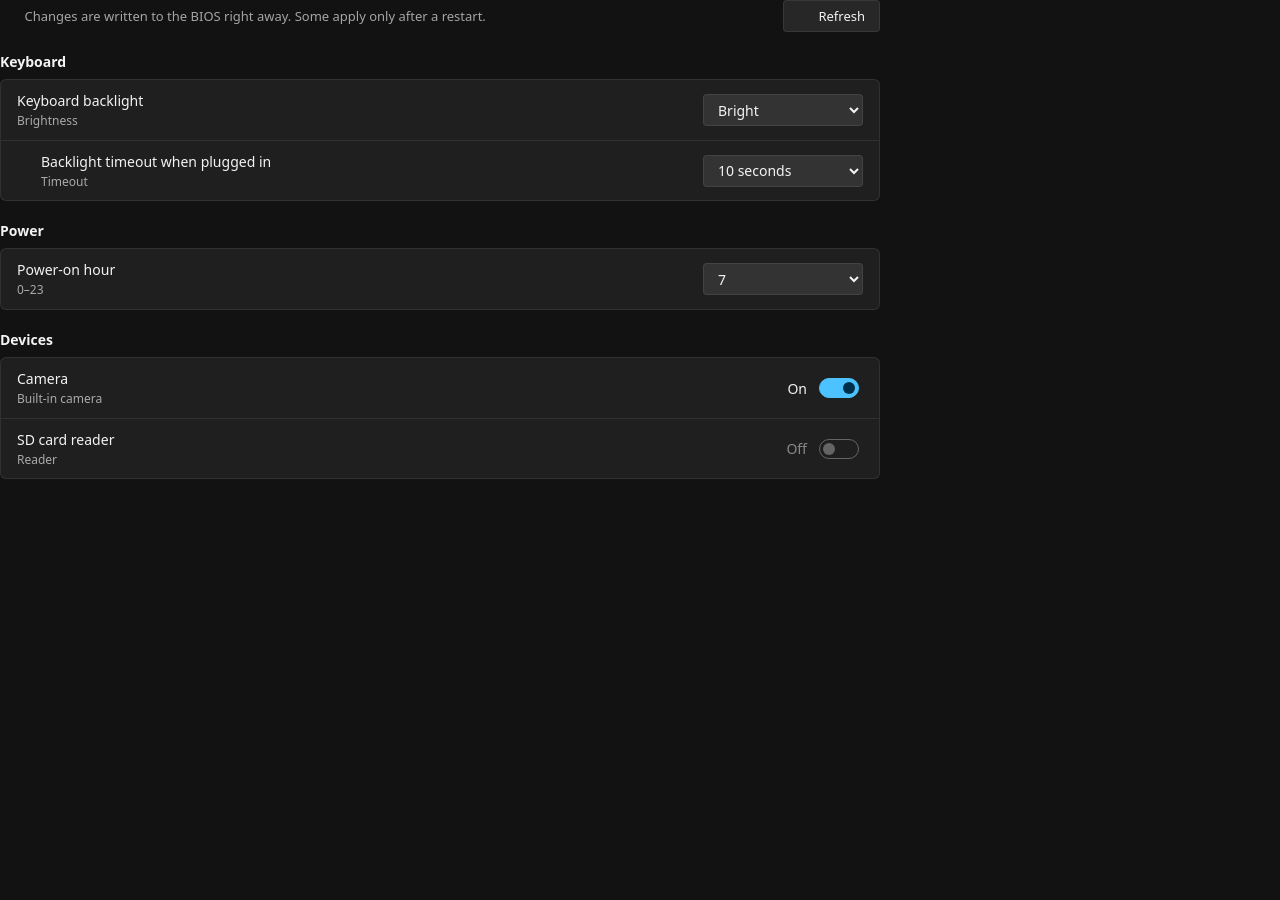
Test: BIOS page › cancelling writes nothing and keeps the shown value
Select "Dim" in the dropdown named "Keyboard backlight": {"x": 783, "y": 110} top-left (703, 94), bottom-right (863, 126)
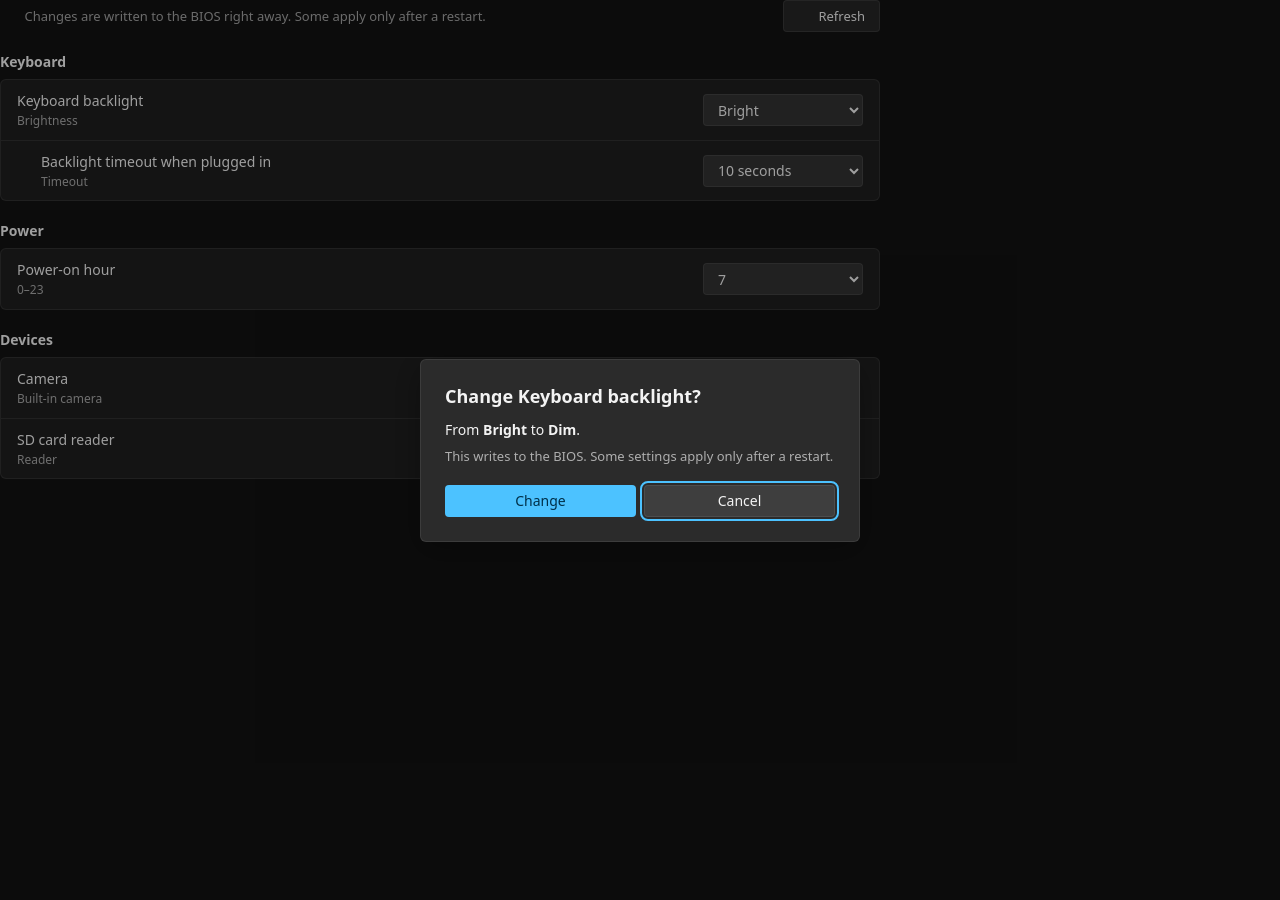
Now the dialog shows "Bright", box top-left (483, 420), bottom-right (527, 438)
Click the button "Cancel": {"x": 740, "y": 500} top-left (644, 484), bottom-right (835, 516)
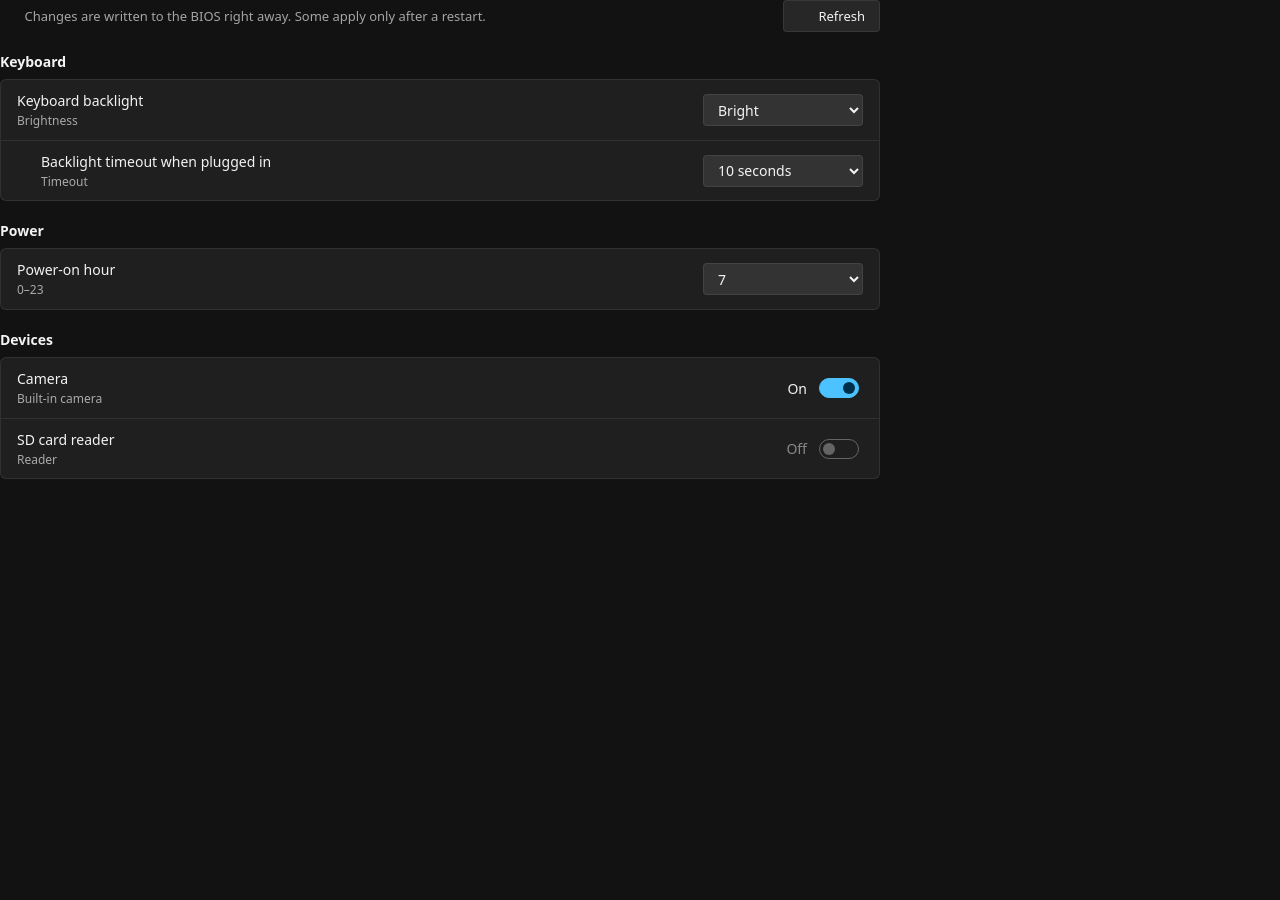
Now the dialog is gone
